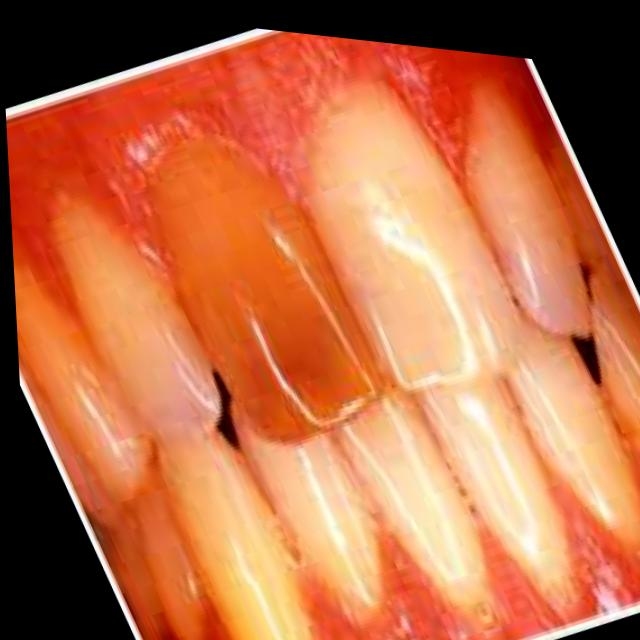tooth-discoloration: (152, 138, 381, 437)
